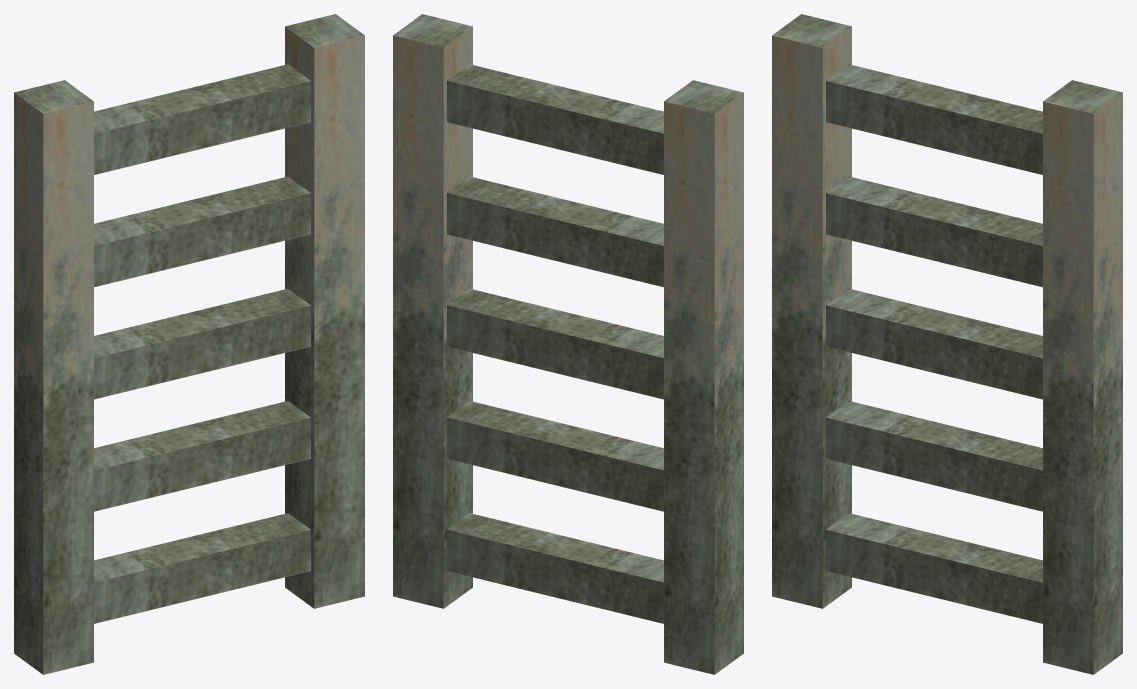
The model's file is ladder_concrete.glb.
3 views of the same model, side by side, from view 1: azimuth 30°, elevation 25°; view 2: azimuth 150°, elevation 25°; view 3: azimuth 330°, elevation 25° (orthographic).
Parts seen in each view (by area): view 1: ladder; view 2: ladder; view 3: ladder.
Part boxes in pixels (<box>): ladder: <box>14,14,364,674</box>; ladder: <box>393,14,743,674</box>; ladder: <box>772,14,1122,674</box>.
Bounding box in the file's own units: 0.57 × 0.95 × 0.09.
Materials: 1 (1 with a texture image).
